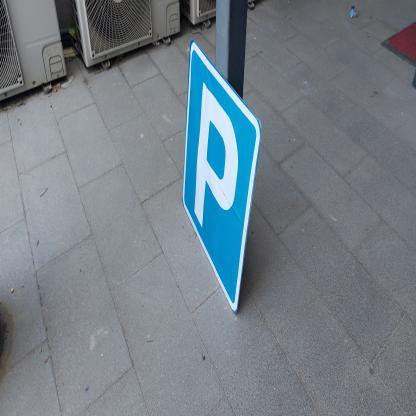parking: (183, 41, 262, 312)
